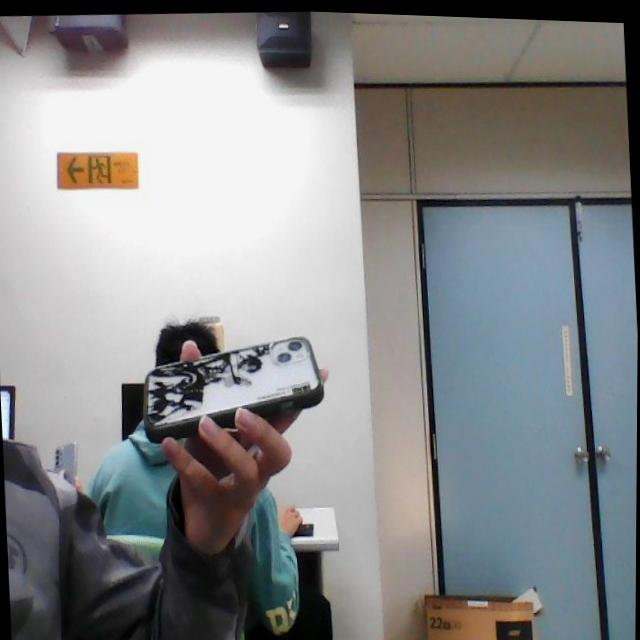Smartphone: (136, 317, 338, 455)
